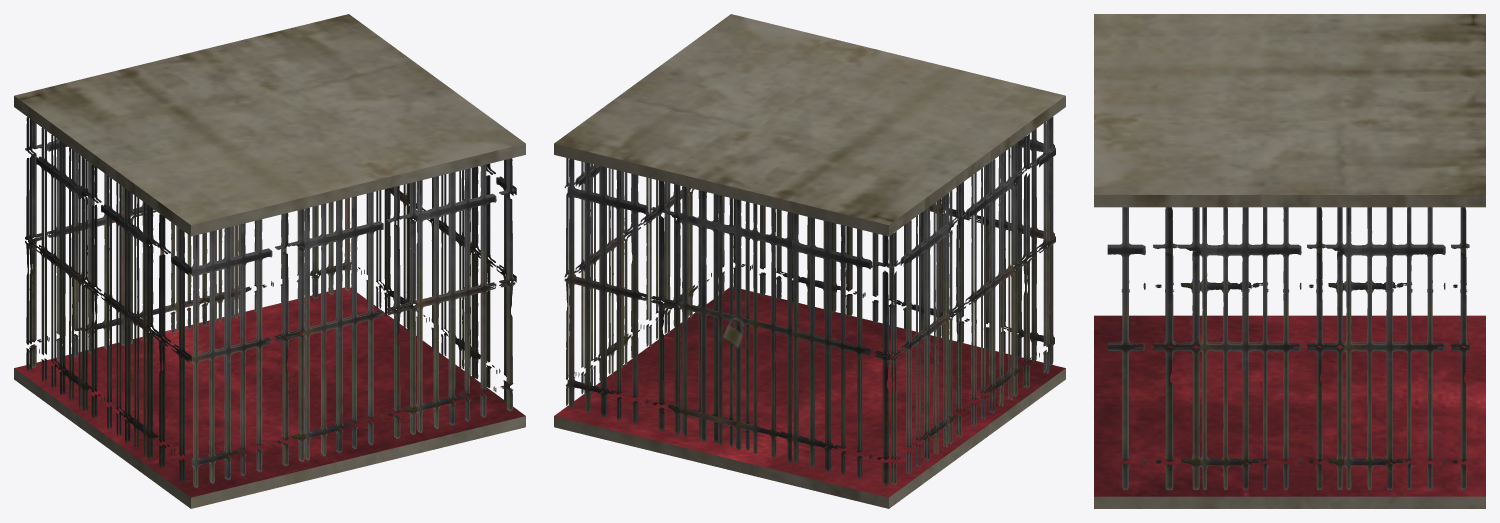
File: mr_lust_cage.FBX
The picture shows the model from 3 angles, left to right: view 1: azimuth 30°, elevation 25°; view 2: azimuth 150°, elevation 25°; view 3: azimuth 270°, elevation 25°; orthographic projection. The views are drawn at different scales.
Visible parts, largest first — view 1: mr_lust_cages, cage_door; view 2: mr_lust_cages, cage_door; view 3: mr_lust_cages.
Part boxes in pixels (x1=…): mr_lust_cages: x1=14, y1=14, x2=525, y2=508; cage_door: x1=127, y1=190, x2=239, y2=344; mr_lust_cages: x1=554, y1=14, x2=1065, y2=508; cage_door: x1=679, y1=186, x2=792, y2=462; mr_lust_cages: x1=1094, y1=14, x2=1485, y2=508.
Bounding box in the file's own units: 198 × 161 × 182.
